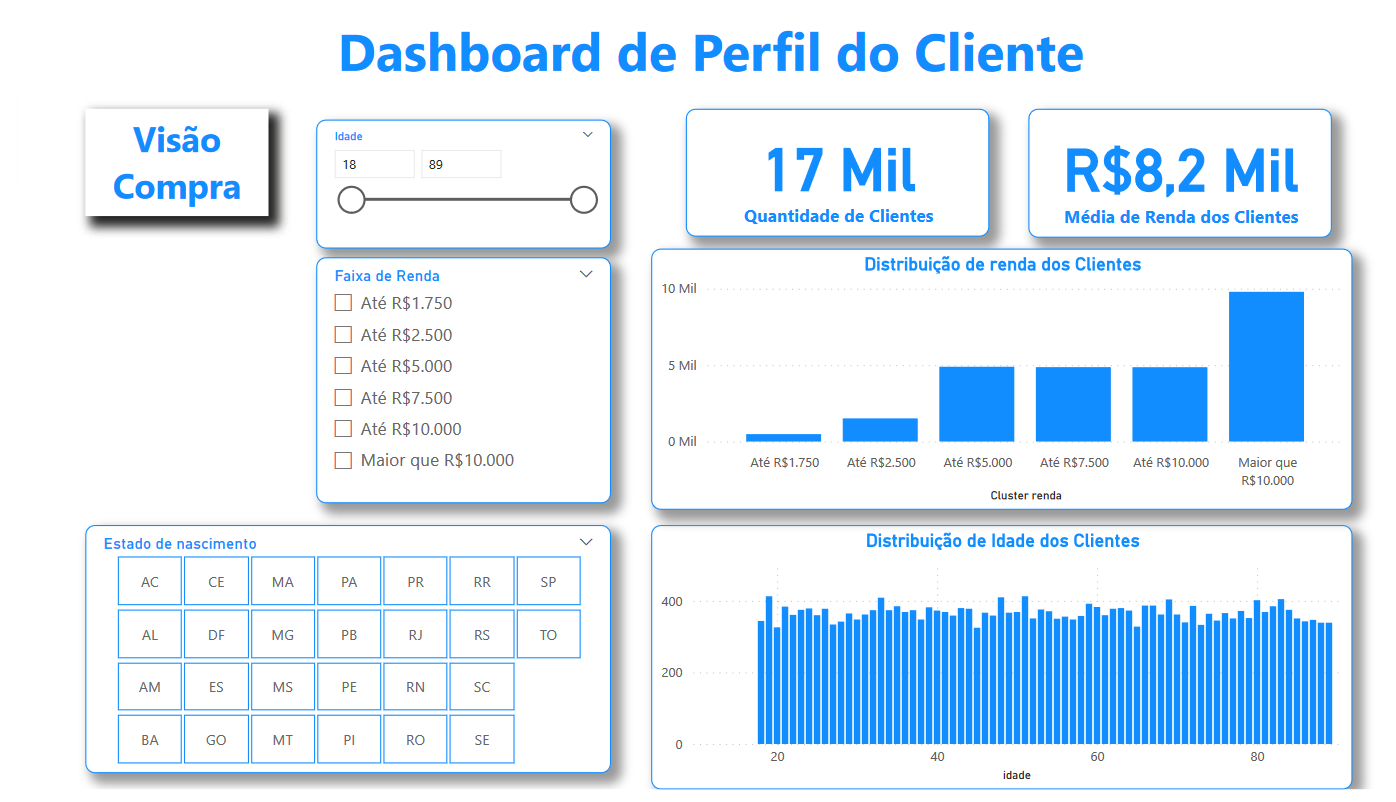

The page's visual inventory and layout, read from the dashboard file:
{"tool":"powerbi","page":{"name":"cliente","canvas":[1280,720],"ordinal":1},"visuals":[{"type":"card","fields":{"Values":["Count(Base cliente.cliente_Log)"]},"box":[617.5,91.9,279.9,118],"z":0},{"type":"card","fields":{"Values":["Avg(Base cliente.renda)"]},"box":[933.1,91.9,279.9,119.4],"z":1000},{"type":"columnChart","title":"Distribuição de Idade dos Clientes","fields":{"Category":["Base cliente.idade"],"Y":["CountNonNull(Base cliente.cliente_Log)"]},"box":[584.6,476.2,647.7,244.3],"z":2000},{"type":"columnChart","title":"Distribuição de renda dos Clientes","fields":{"Category":["Base cliente.Cluster renda"],"Y":["CountNonNull(Base cliente.renda)"]},"box":[584.6,220.9,647.7,241.5],"z":3000},{"type":"slicer","fields":{"Values":["Base cliente.idade"]},"box":[275.8,101.5,271.7,119.4],"z":4000},{"type":"slicer","fields":{"Values":["Base cliente.Cluster renda"]},"box":[275.8,229.2,271.7,226.4],"z":5000},{"type":"slicer","fields":{"Values":["Base cliente.uf_nascimento"]},"box":[63.1,476.2,484.4,229.2],"z":6000},{"type":"textbox","box":[0,0,1280.3,75.5],"z":7000},{"type":"textbox","box":[63.1,91.9,168.8,98.8],"z":8000}]}

Visuals, with their boxes in screenshot pixels (x1, y1, x2, y2), scaled from the page's 1280x720 canvas onto the 1396x802 screenshot:
card - Count(Base cliente.cliente_Log): l=673, t=102, r=979, b=234
card - Avg(Base cliente.renda): l=1018, t=102, r=1323, b=235
"Distribuição de Idade dos Clientes" columnChart: l=638, t=530, r=1344, b=801
"Distribuição de renda dos Clientes" columnChart: l=638, t=246, r=1344, b=515
slicer - Base cliente.idade: l=301, t=113, r=597, b=246
slicer - Base cliente.Cluster renda: l=301, t=255, r=597, b=507
slicer - Base cliente.uf_nascimento: l=69, t=530, r=597, b=786
textbox: l=0, t=0, r=1395, b=84
textbox: l=69, t=102, r=253, b=212
